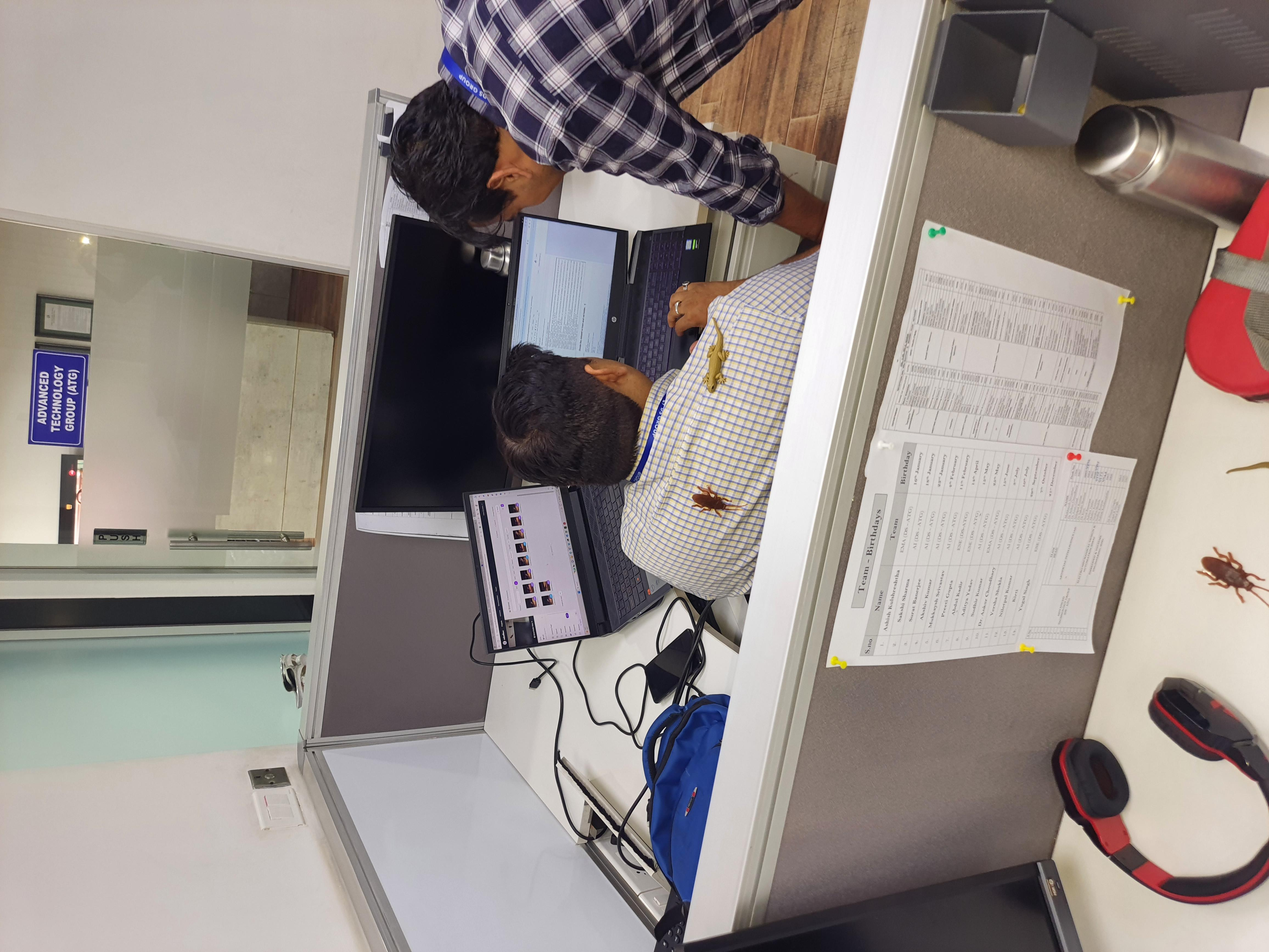cockroach: (454, 873, 562, 949), (568, 505, 656, 573)
lizard: (733, 517, 890, 573)
